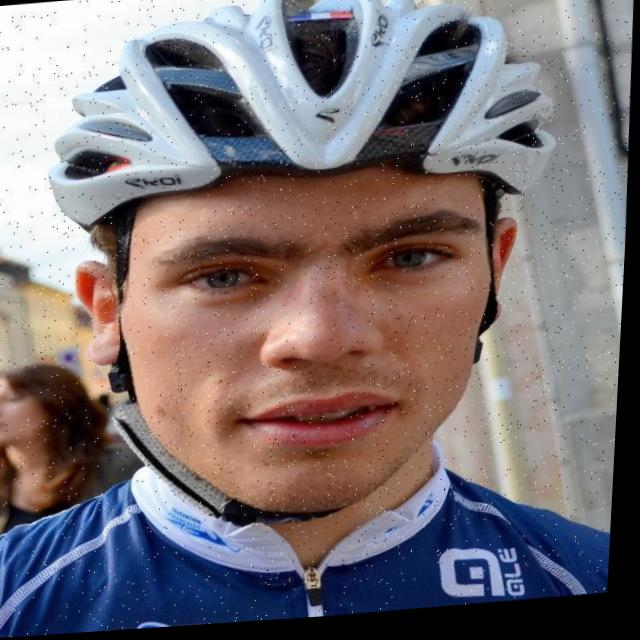helmet: (36, 0, 572, 549)
